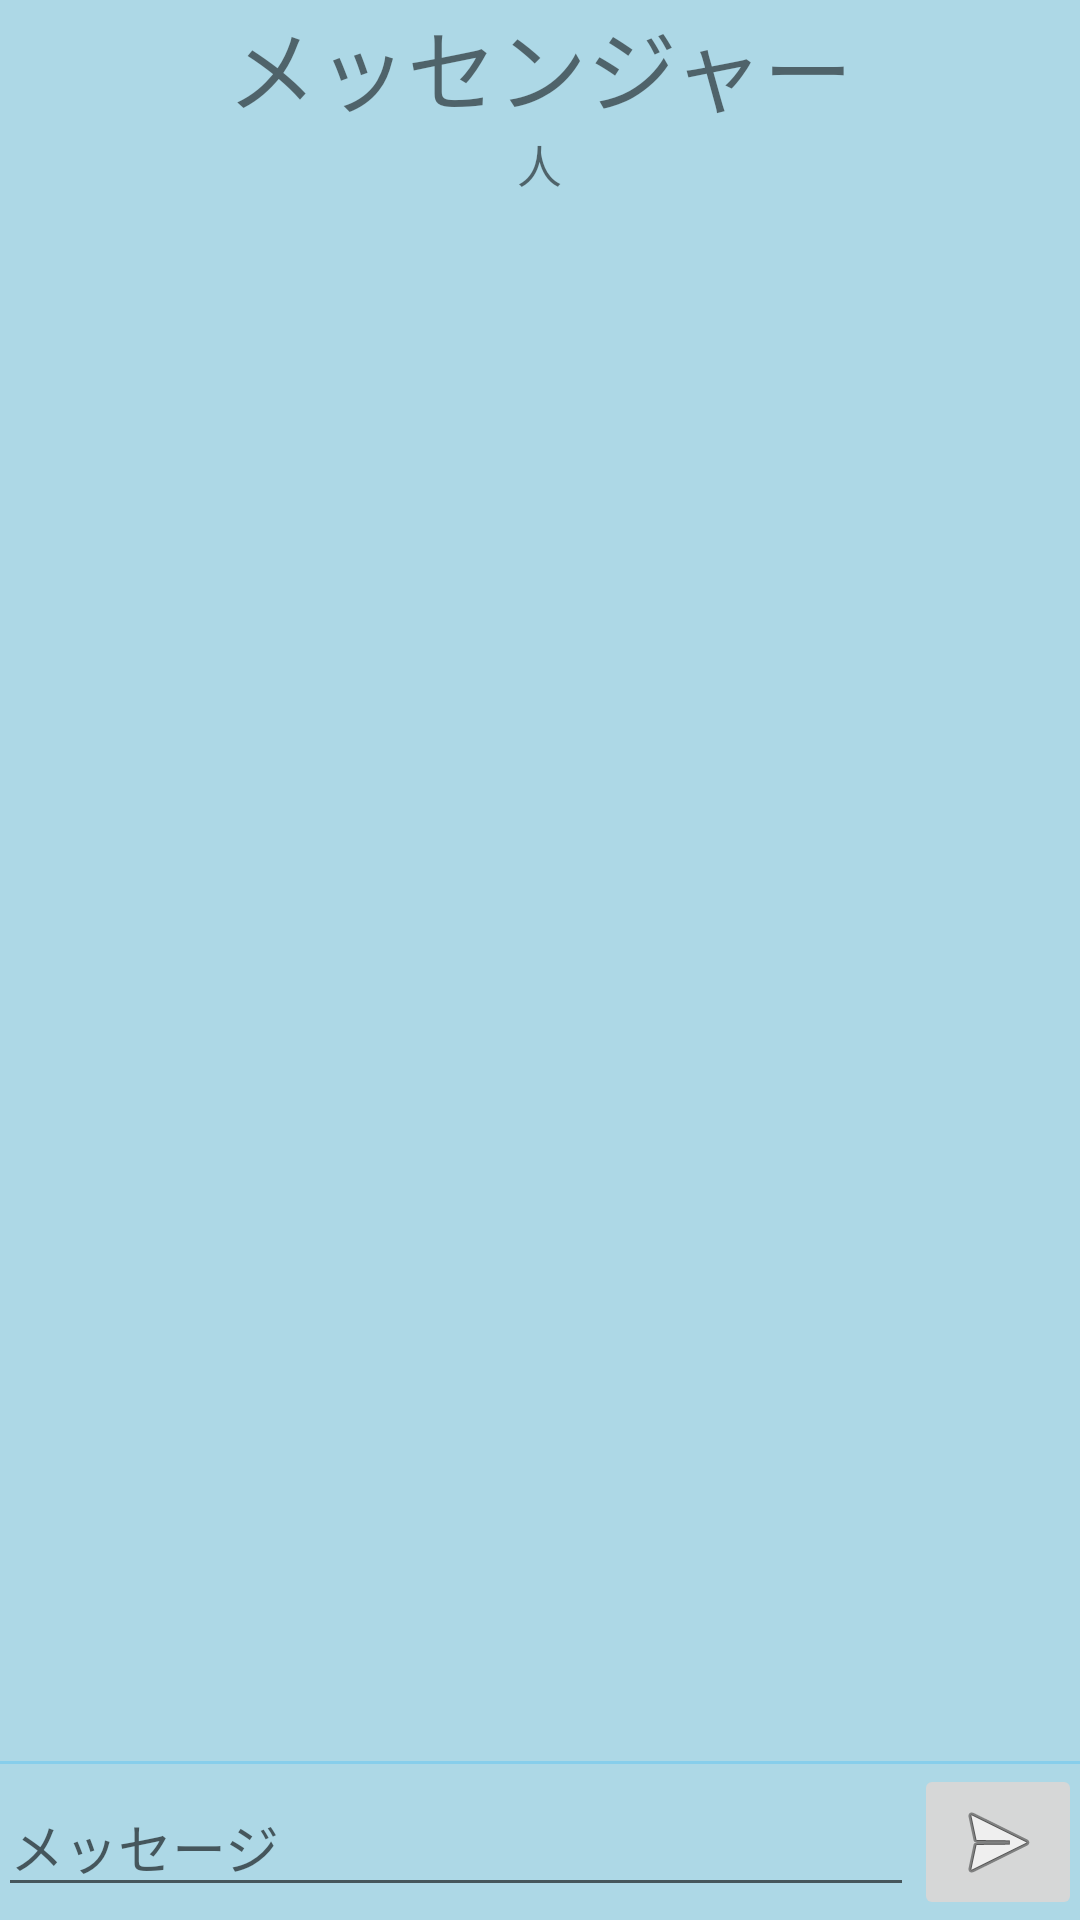

Where to tap for icons on this 1080*1920 app screen, as point (x, y):
send: point (998, 1842)
